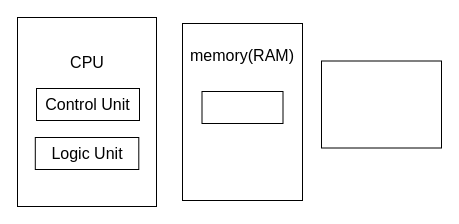
Image size: 459x224. Some labels were removed from this diagram. The box of each missing label's shape, as (x1, y1, x2, y2) in pixels:
process: (201, 90, 283, 124)
storage(SSD): (320, 60, 442, 148)
